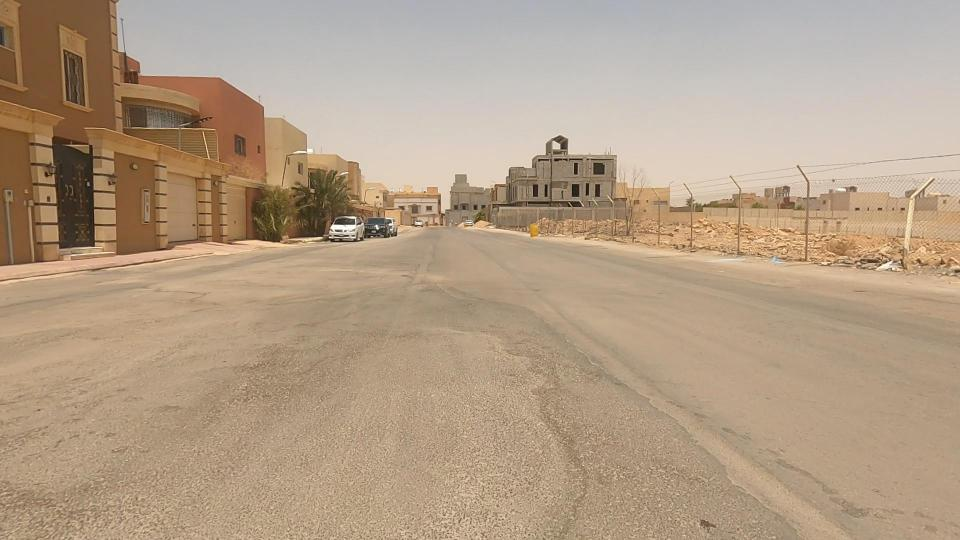GARBAGE: (836, 234, 927, 297), (702, 237, 761, 279), (749, 237, 794, 277)
